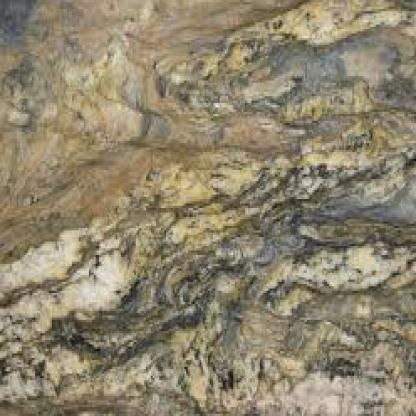Metamorphic_Quartize: (1, 0, 416, 415)
